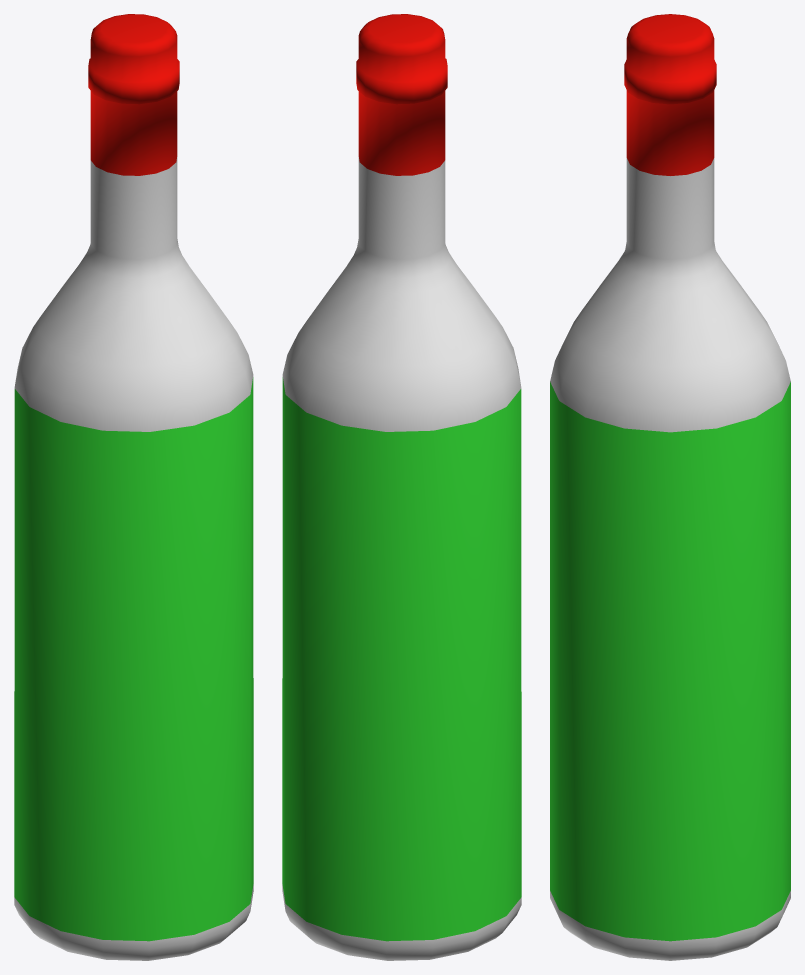
File: Bouteille.fbx
3 views of the same model, side by side, from view 1: azimuth 30°, elevation 25°; view 2: azimuth 150°, elevation 25°; view 3: azimuth 270°, elevation 25° (orthographic).
Visible parts, largest first — view 1: Bouteille; view 2: Bouteille; view 3: Bouteille.
Boxes of the visible parts, left/top/right/bottom form: Bouteille: left=14, top=14, right=253, bottom=960; Bouteille: left=282, top=14, right=521, bottom=960; Bouteille: left=550, top=14, right=790, bottom=960.
Size of the model in its own units: 0.2535 by 1.03 by 0.2535.
